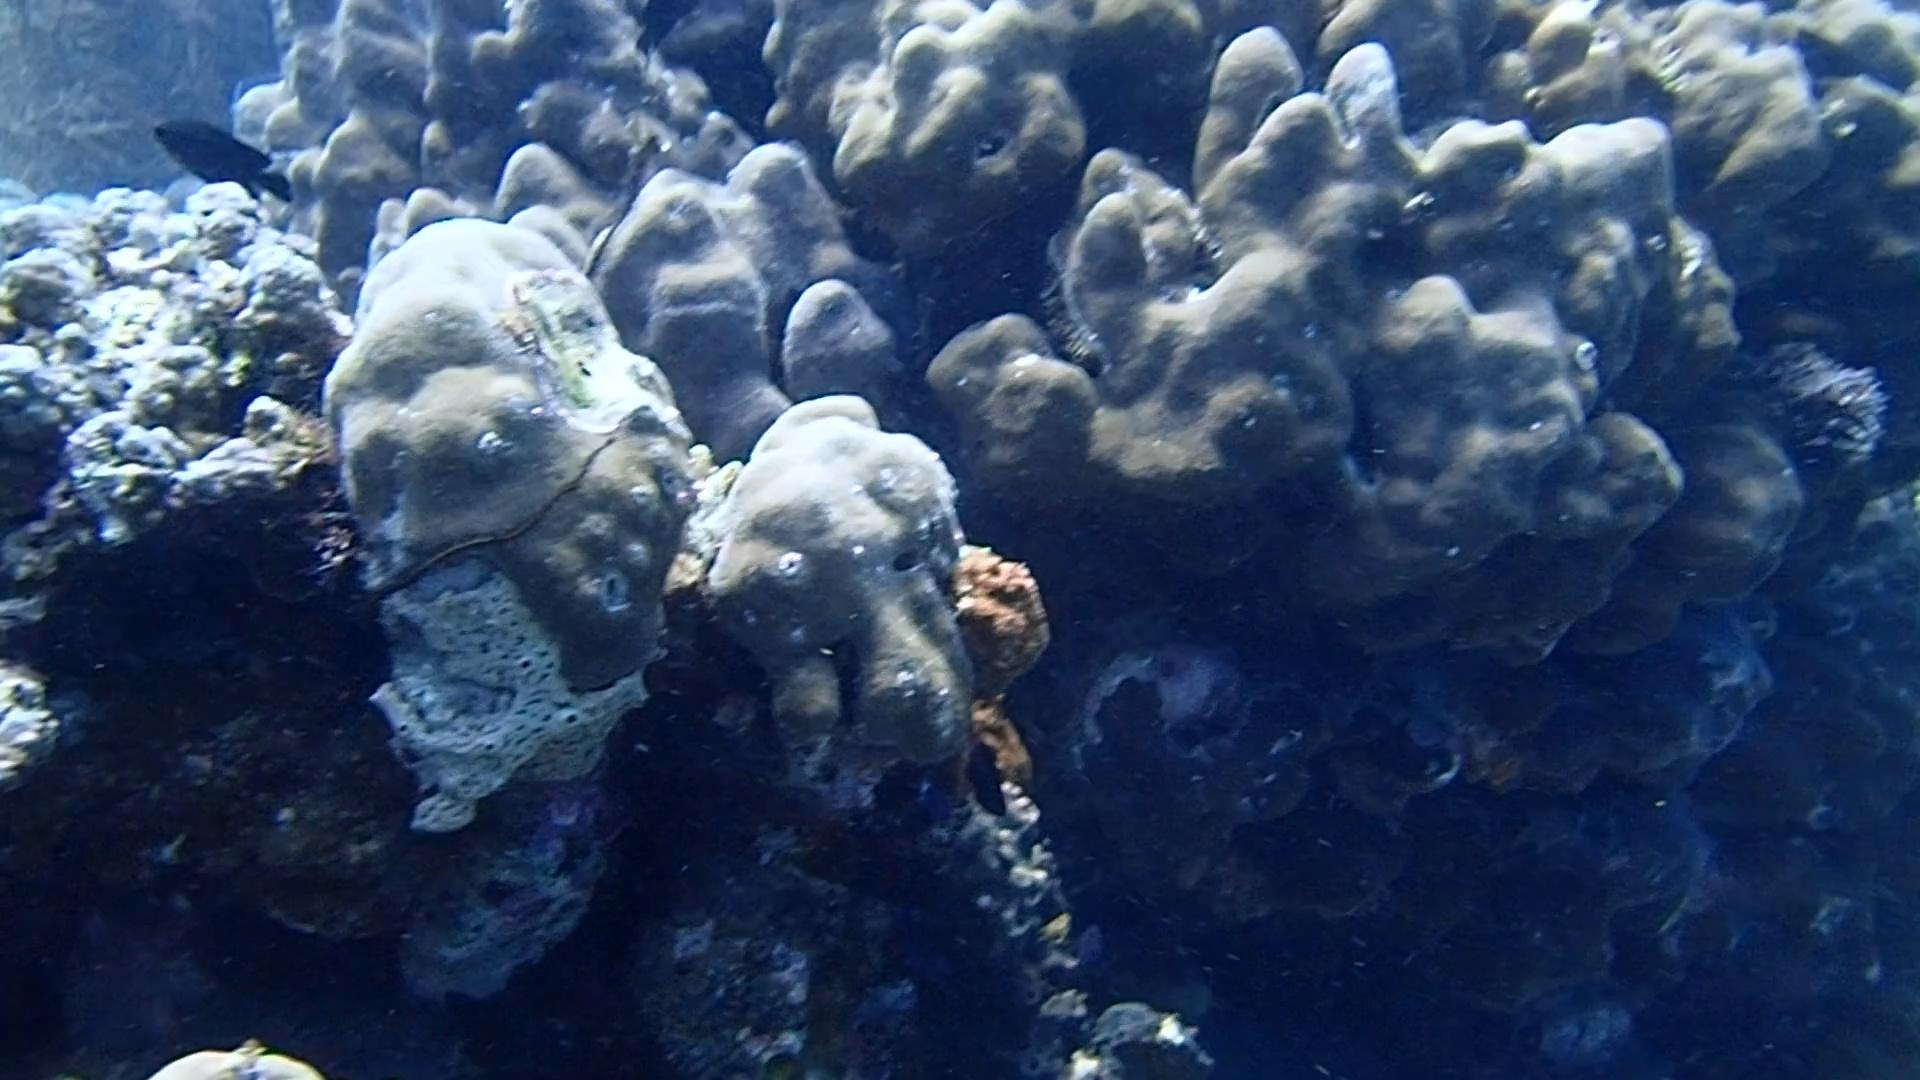Dark Fish: (149, 102, 301, 212), (1779, 18, 1878, 90), (1607, 63, 1698, 121), (957, 740, 1017, 825)
